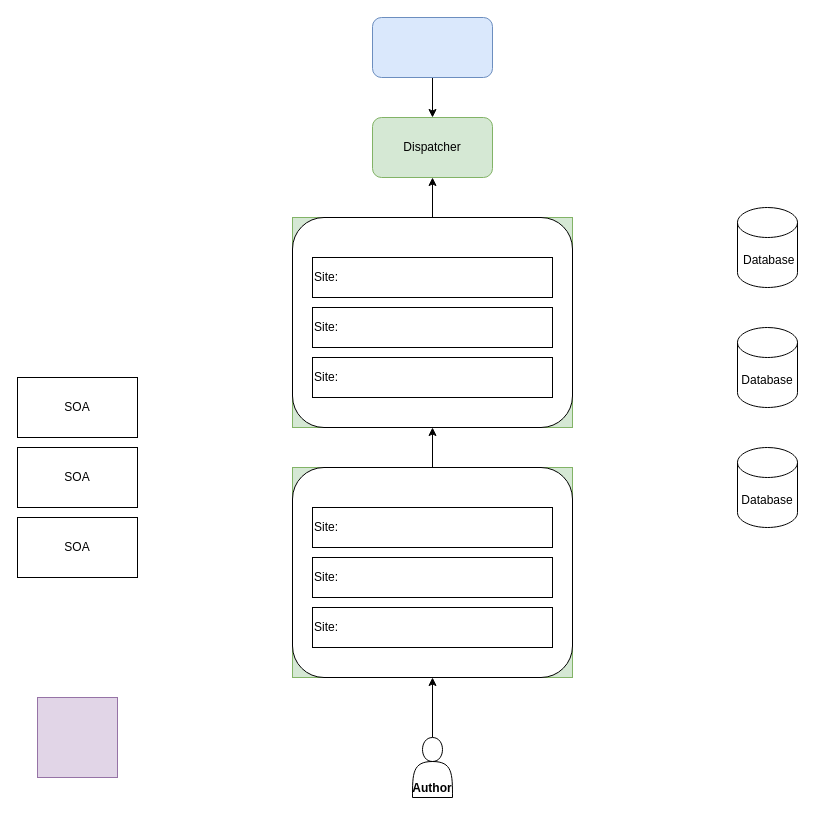
Image size: 815x815. Some labels were removed from this diagram. The box of each missing label's shape, as (x1, y1, x2, y2) in pixels:
Author Instance: (292, 466, 572, 678)
Code Repo: (36, 696, 118, 778)
F5 Appliance: (372, 16, 492, 78)
Publish Instance: (292, 216, 572, 428)
